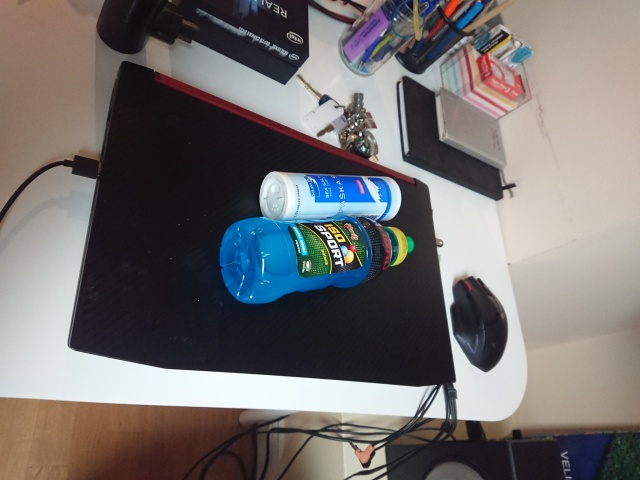Solana Pag Fine Sea Salt 250g: (256, 168, 404, 222)
Vindi Iso Sport Forest Strawberries 500mL: (217, 213, 416, 306)
